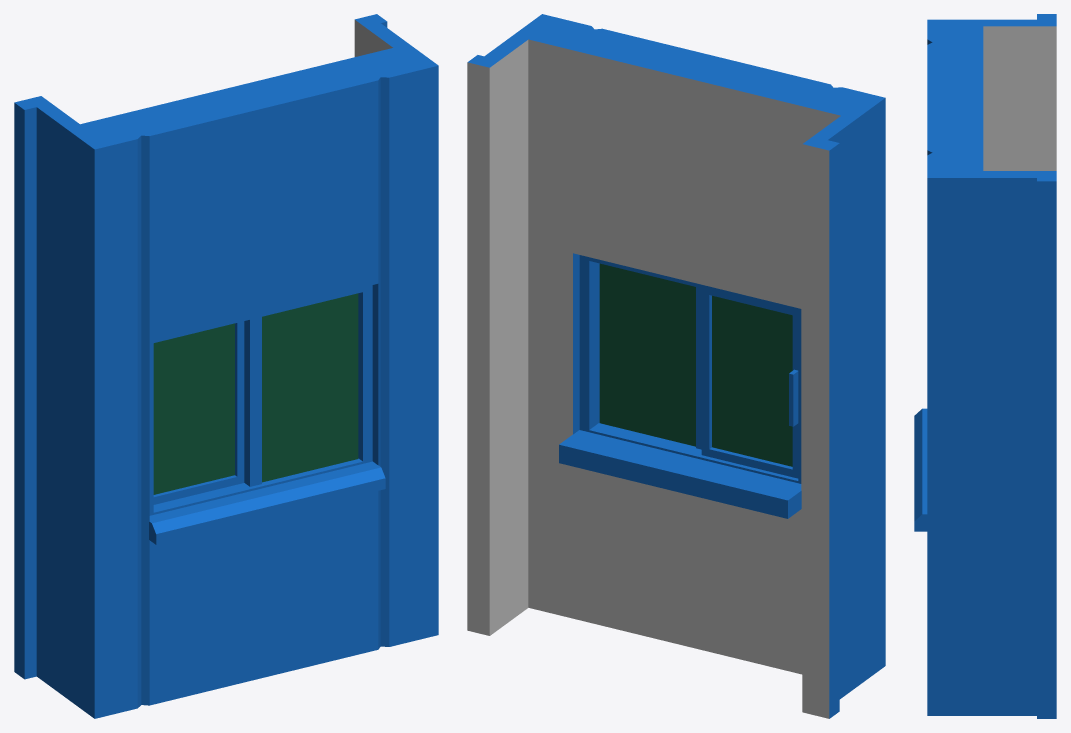
File: T_order_pickup_window.fbx
3 views of the same model, side by side, from view 1: azimuth 30°, elevation 25°; view 2: azimuth 150°, elevation 25°; view 3: azimuth 270°, elevation 25° (orthographic). The views are drawn at different scales.
Visible parts, largest first — view 1: order_pickup_window, Cube; view 2: order_pickup_window, Cube; view 3: order_pickup_window.
Part boxes in pixels (bbox=[...]): order_pickup_window: bbox=[14, 14, 438, 718]; Cube: bbox=[153, 321, 244, 504]; order_pickup_window: bbox=[467, 14, 885, 718]; Cube: bbox=[701, 288, 798, 478]; order_pickup_window: bbox=[914, 14, 1056, 718].
Size of the model in its own units: 200 by 300 by 71.87.
